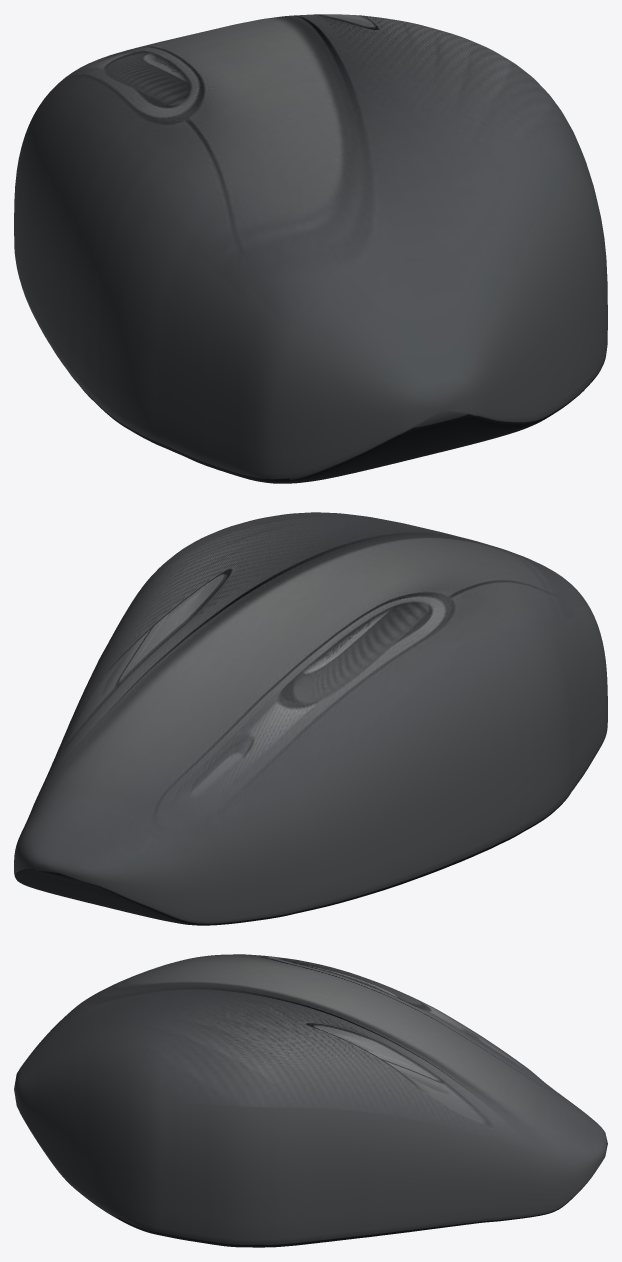
Rendered from logitech-signature-comfort-m840l.glb.
3 views of the same model, one above another, from view 1: azimuth 30°, elevation 25°; view 2: azimuth 150°, elevation 25°; view 3: azimuth 270°, elevation 25° (orthographic). The views are drawn at different scales.
Parts seen in each view (by area): view 1: logitech-signature-comfort-m840l; view 2: logitech-signature-comfort-m840l; view 3: logitech-signature-comfort-m840l.
Boxes of the visible parts, <box> form: logitech-signature-comfort-m840l: <box>14,14,607,483</box>; logitech-signature-comfort-m840l: <box>14,512,607,925</box>; logitech-signature-comfort-m840l: <box>14,954,607,1247</box>.
Bounding box in the file's own units: 0.0743 × 0.0432 × 0.1218.
Materials: 3 (1 with a texture image).
